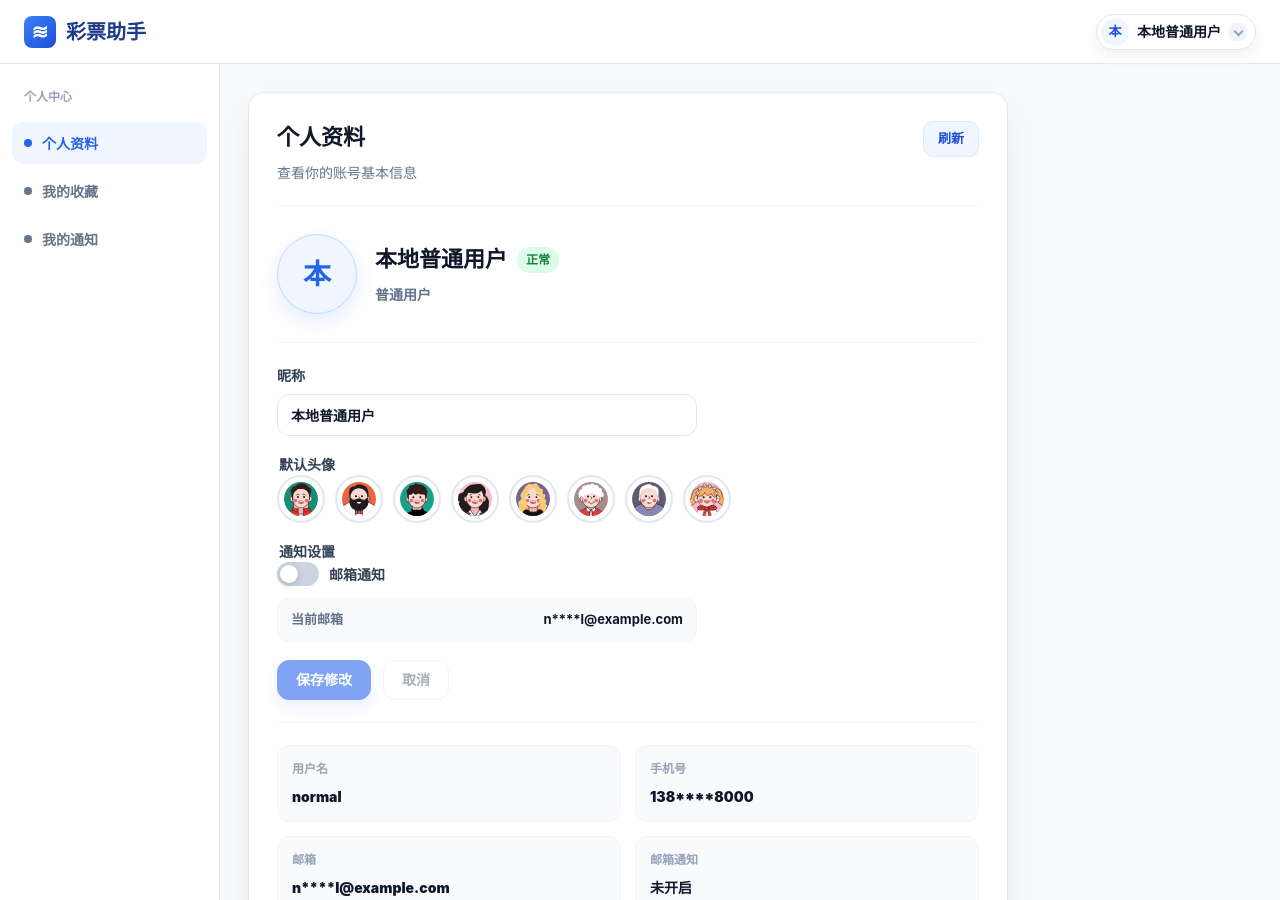
Test: ProfileView › cancels unsaved profile changes
Replace the text in the field labelled "昵称" with "临时昵称" at (487, 415), box left=277, top=394, right=697, bottom=436
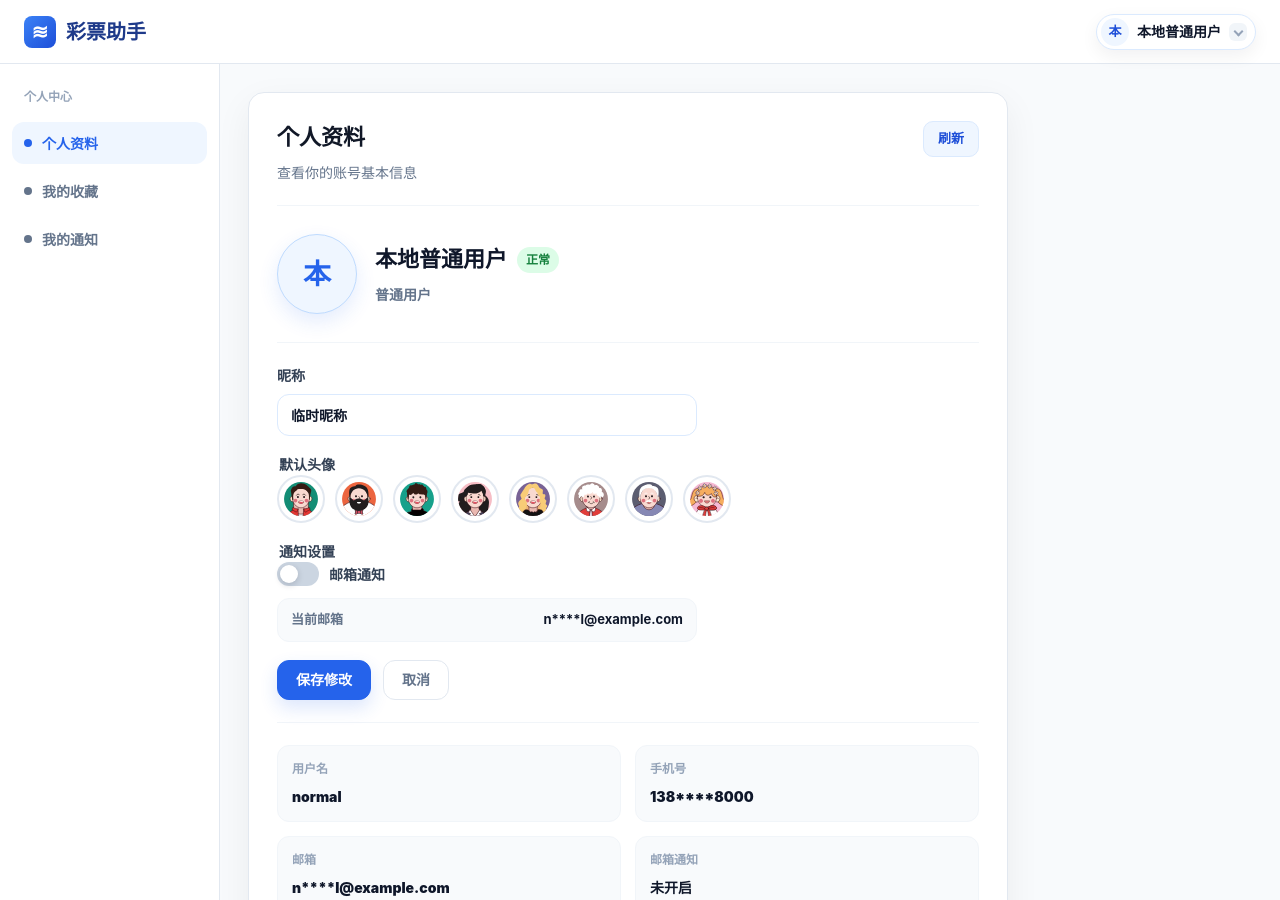
Click the 3rd button with class "profile-avatar-option" at (417, 499), box left=393, top=475, right=441, bottom=523
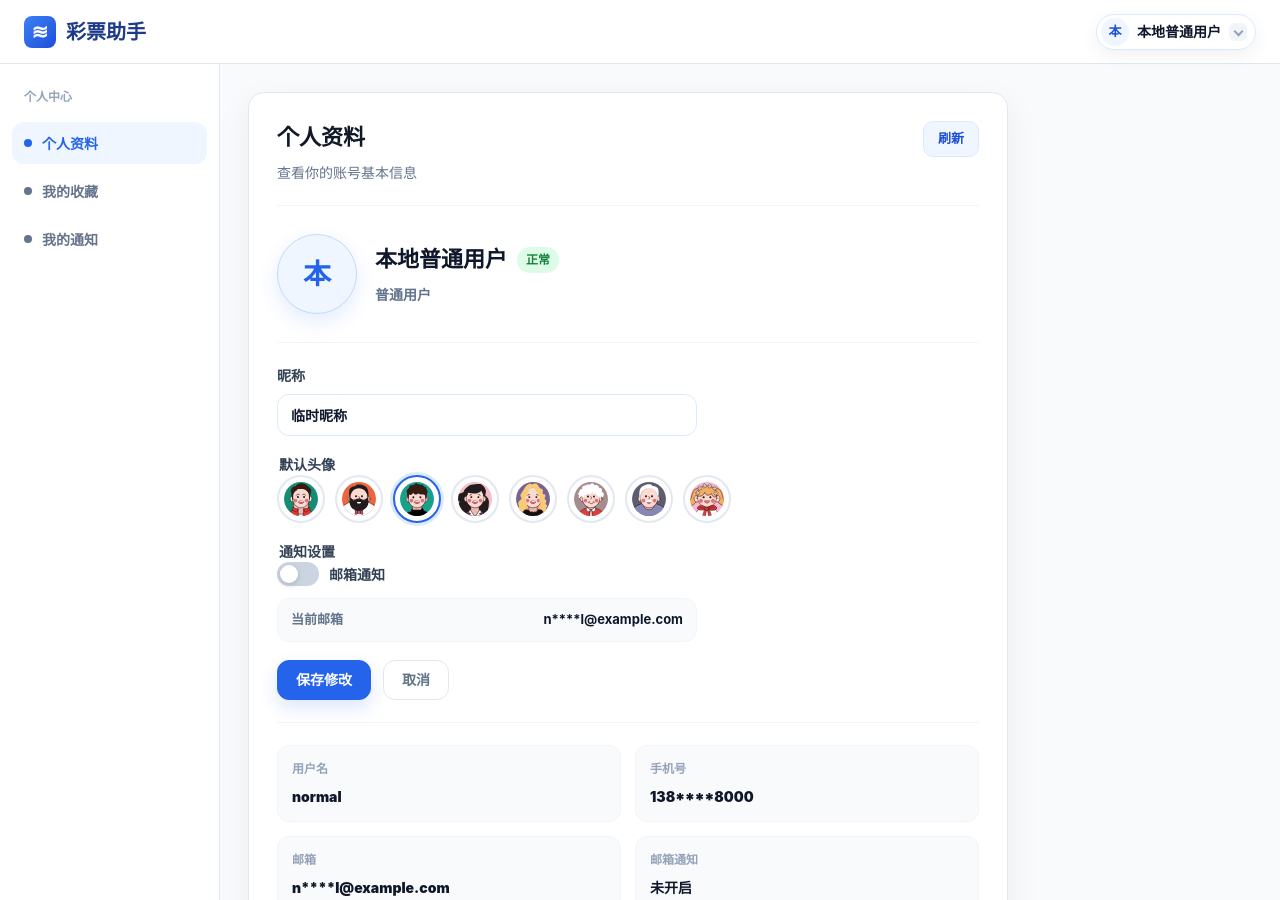
Click the button "取消" at (416, 680), box left=383, top=660, right=449, bottom=700
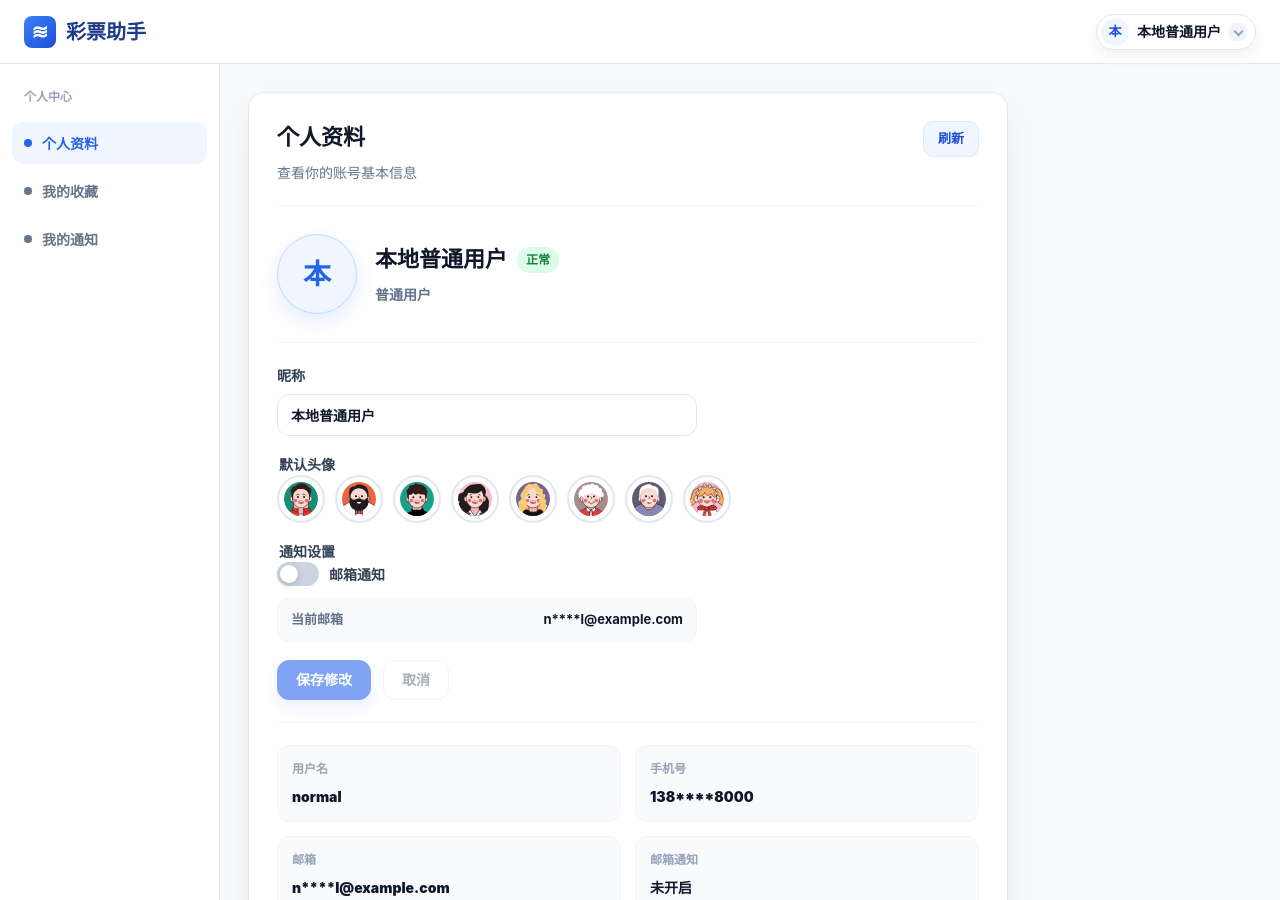
Check: the field labelled "昵称" holds "本地普通用户", box left=277, top=394, right=697, bottom=436
